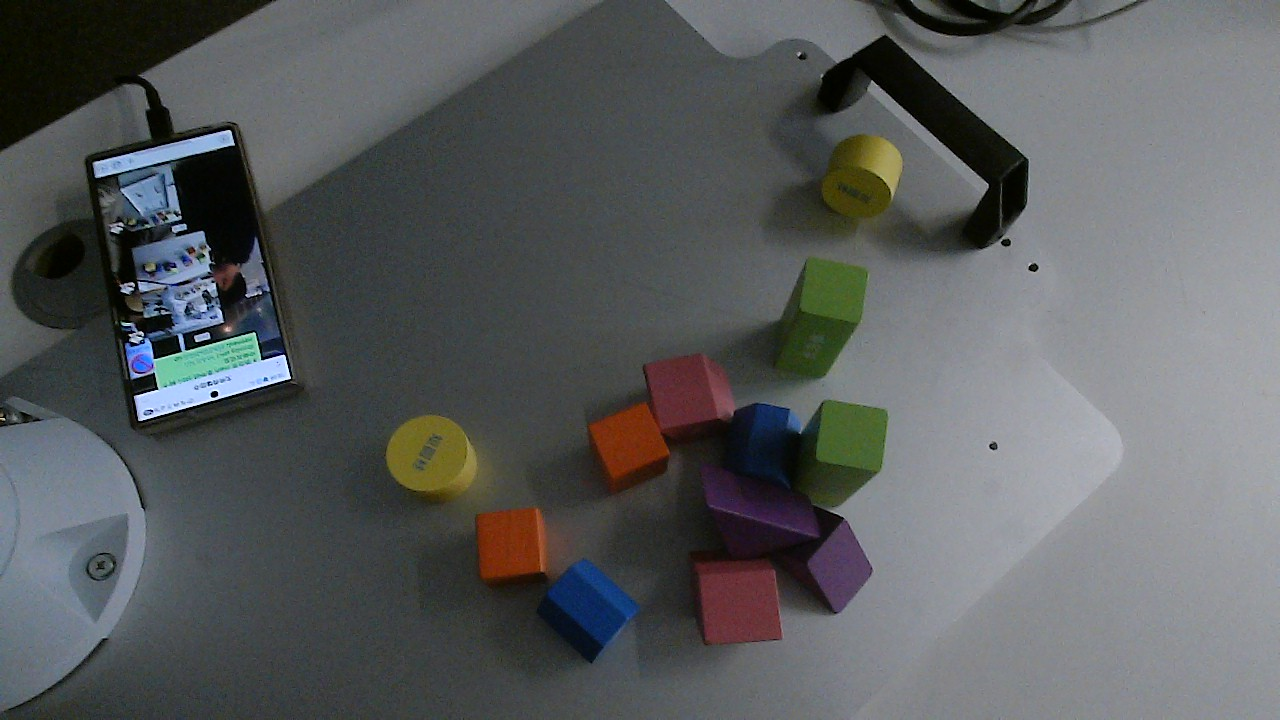circle: (384, 415, 477, 503), (825, 133, 905, 224)
diamond: (690, 556, 783, 652), (641, 352, 734, 443)
hexagon: (542, 560, 632, 664), (726, 402, 800, 488)
rectangle: (776, 252, 869, 385), (794, 398, 887, 515)
square: (590, 402, 674, 496), (470, 507, 547, 579)
triangle: (773, 506, 874, 615), (698, 464, 817, 555)
